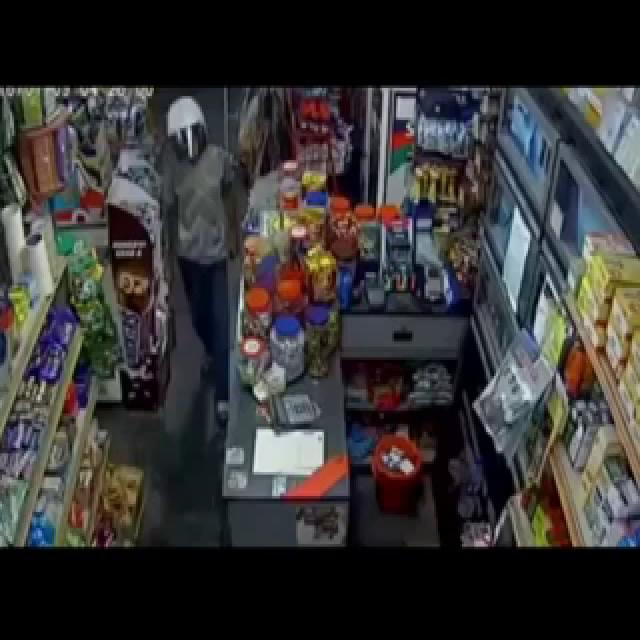robbery: (114, 84, 353, 550)
